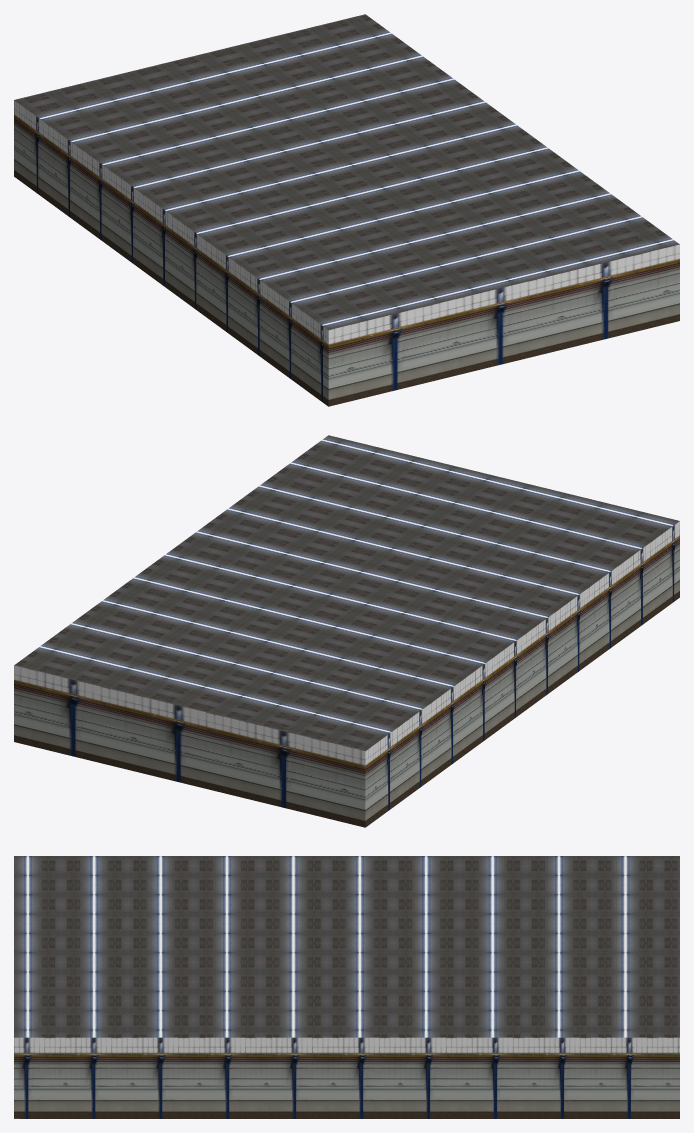
Rendered from warehouse.dae.
3 views of the same model, one above another, from view 1: azimuth 30°, elevation 25°; view 2: azimuth 150°, elevation 25°; view 3: azimuth 270°, elevation 25° (orthographic). The views are drawn at different scales.
Parts seen in each view (by area): view 1: instance_0.006, instance_0.005; view 2: instance_0.006, instance_0.005; view 3: instance_0.006, instance_0.005.
Boxes of the visible parts, left/top/right/bottom form: instance_0.006: left=14, top=14, right=679, bottom=329; instance_0.005: left=14, top=100, right=679, bottom=406; instance_0.006: left=14, top=435, right=679, bottom=750; instance_0.005: left=14, top=521, right=679, bottom=827; instance_0.006: left=14, top=856, right=679, bottom=1037; instance_0.005: left=14, top=1037, right=679, bottom=1118.
Bounding box in the file's own units: 62.44 × 96.77 × 13.
4 materials, 4 textured.
